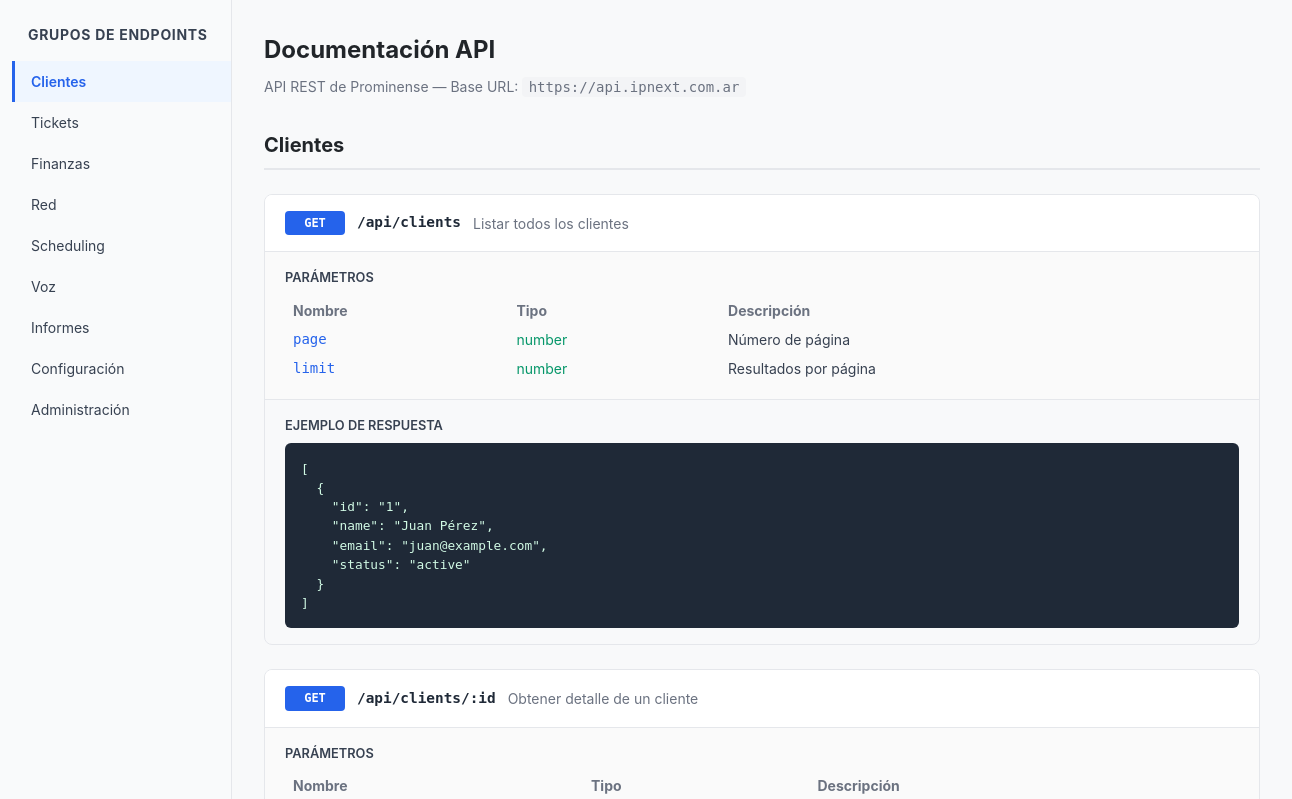
Test case: ApiDocsPage › clicking a group shows endpoints for that group
The image size is (1292, 799).
Click the button "Tickets".
click(122, 122)  # box [12, 102, 231, 143]
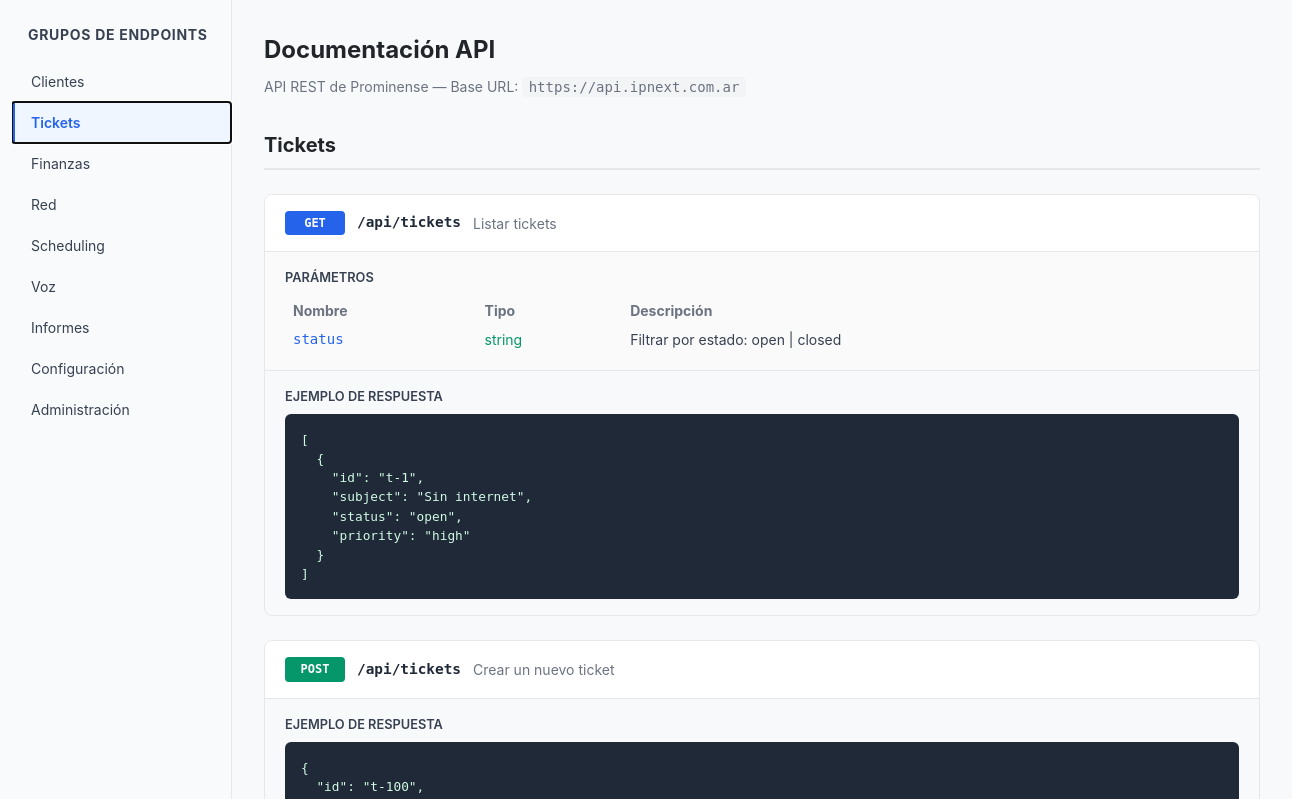
Expected: the text "/api/tickets" next to "Listar tickets" is shown, [357, 214, 461, 230]
Expected: the text "Listar tickets" is shown, [473, 213, 557, 234]
